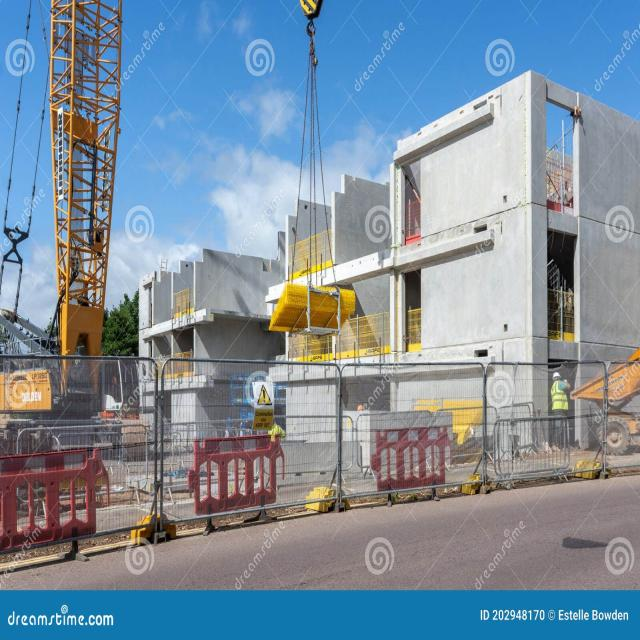cone: (1, 316, 640, 554)
